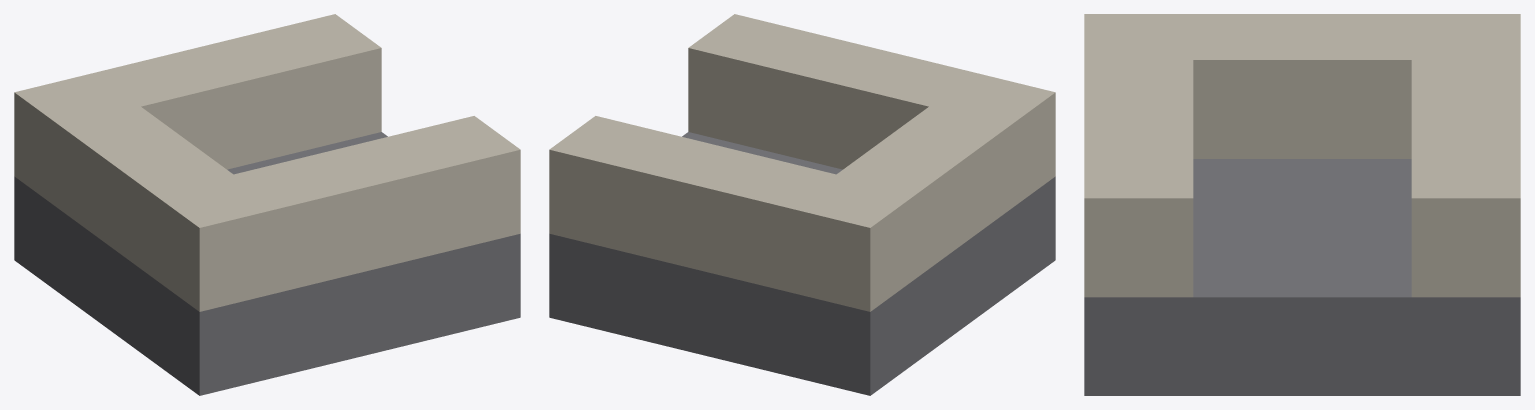
Rendered from roof_flat_end.glb.
3 renders of one model, left to right at view 1: azimuth 30°, elevation 25°; view 2: azimuth 150°, elevation 25°; view 3: azimuth 270°, elevation 25°, orthographic. The views are drawn at different scales.
Parts seen in each view (by area): view 1: roof_flat_end; view 2: roof_flat_end; view 3: roof_flat_end.
Part boxes in pixels (x1=…): roof_flat_end: x1=14, y1=14, x2=520, y2=395; roof_flat_end: x1=549, y1=14, x2=1055, y2=395; roof_flat_end: x1=1084, y1=14, x2=1520, y2=395.
Size of the model in its own units: 1 by 0.5 by 1.
Materials: 1 (1 with a texture image).
